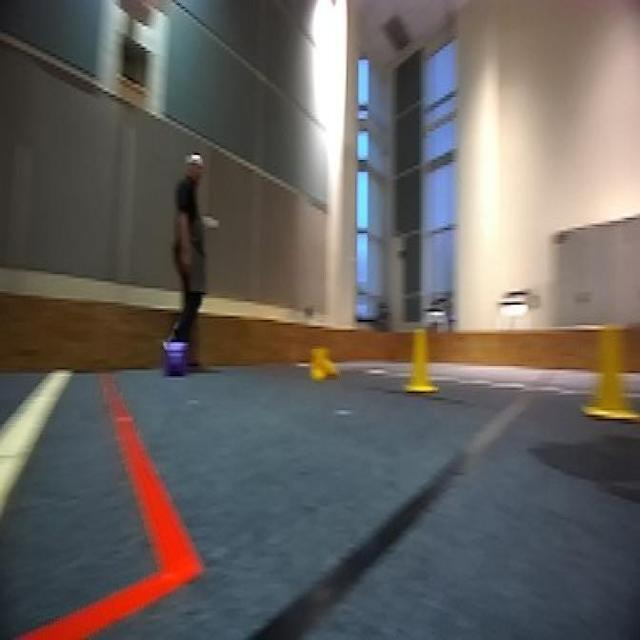frc_cone: (581, 323, 639, 424), (401, 327, 438, 393), (310, 348, 338, 382)
frc_cube: (164, 337, 188, 376)
